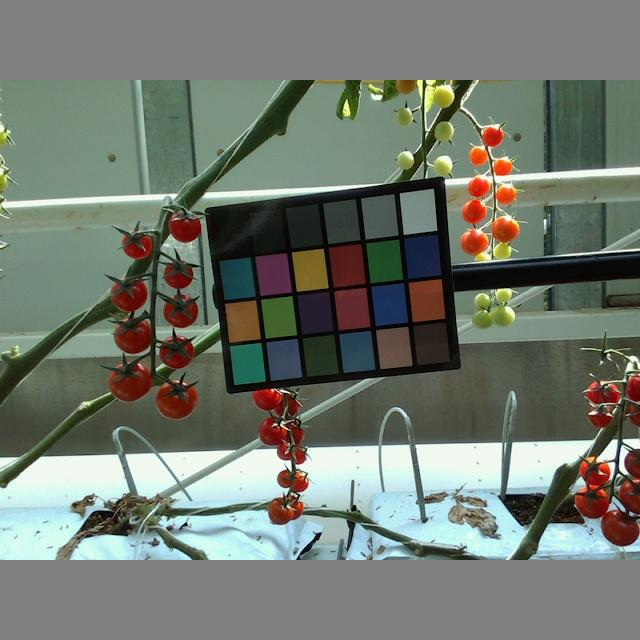green: (430, 83, 454, 108), (433, 122, 455, 143), (475, 309, 499, 325), (433, 159, 452, 178), (395, 106, 413, 126), (494, 308, 515, 325), (494, 288, 512, 306), (398, 150, 415, 168), (476, 292, 491, 311)
pink: (492, 214, 519, 243), (459, 226, 486, 255), (460, 199, 488, 224), (467, 175, 489, 198), (481, 126, 503, 148), (496, 182, 516, 202), (469, 144, 488, 165), (492, 157, 511, 175)
red: (108, 362, 152, 403), (153, 380, 199, 419), (113, 317, 153, 354), (603, 509, 640, 543), (164, 212, 204, 243), (111, 279, 148, 311), (574, 485, 609, 518), (163, 296, 198, 328), (158, 338, 194, 368), (256, 416, 288, 447), (578, 455, 611, 485), (120, 231, 152, 261), (587, 380, 621, 406), (252, 384, 283, 412), (163, 261, 194, 288), (267, 498, 295, 524), (583, 406, 615, 427), (288, 472, 310, 493), (276, 464, 294, 488), (276, 443, 296, 460)
